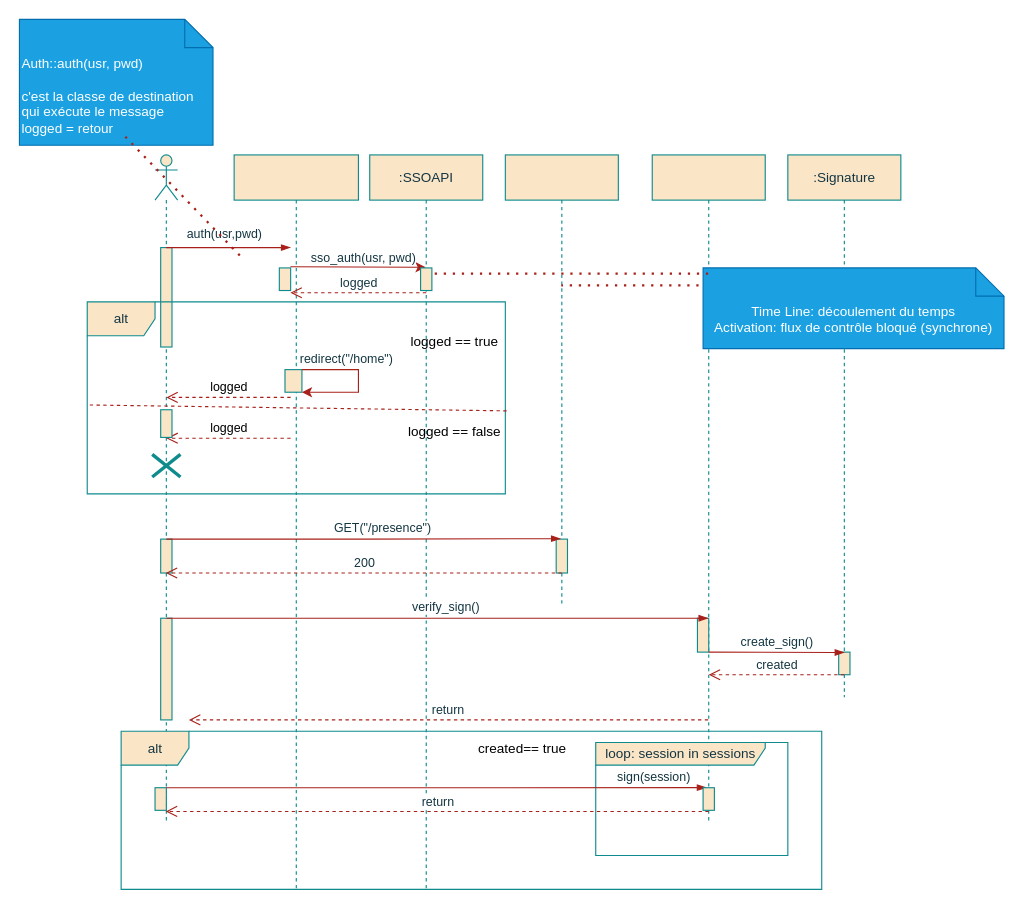
The diagram is 1025 pixels wide and 910 high, and some of its shapes have lost their labels. The box of each missing label's shape, as (x1, y1, x2, y2) in pixels:
:Auth: (233, 154, 358, 889)
:Home: (504, 154, 618, 607)
:Presence: (651, 154, 765, 822)
